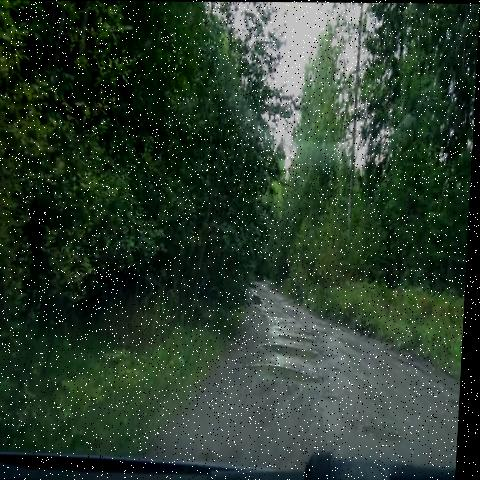pothole: (239, 356, 330, 395), (353, 412, 414, 455), (252, 336, 333, 366), (266, 314, 327, 349), (324, 382, 347, 407), (249, 285, 271, 305), (333, 357, 353, 378)
